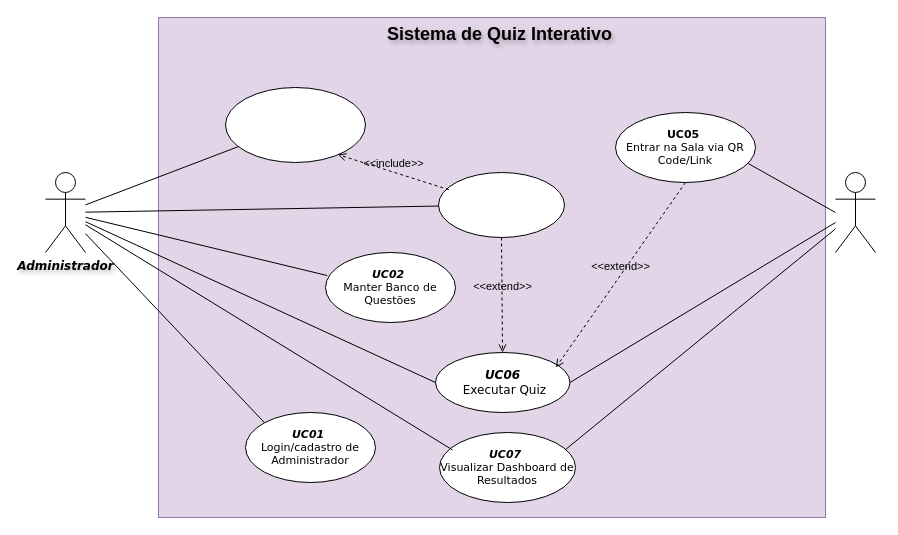
Image size: 898x535. Some labels were removed from this diagram. Here are the shapes that lost their labels. From the top down, the centre of each, then its label:
pixel 295 124: UC04 Gerar Sala via QR Code/Link
pixel 501 205: UC03 Criar Quiz Dinâmico
pixel 855 212: Jogador
